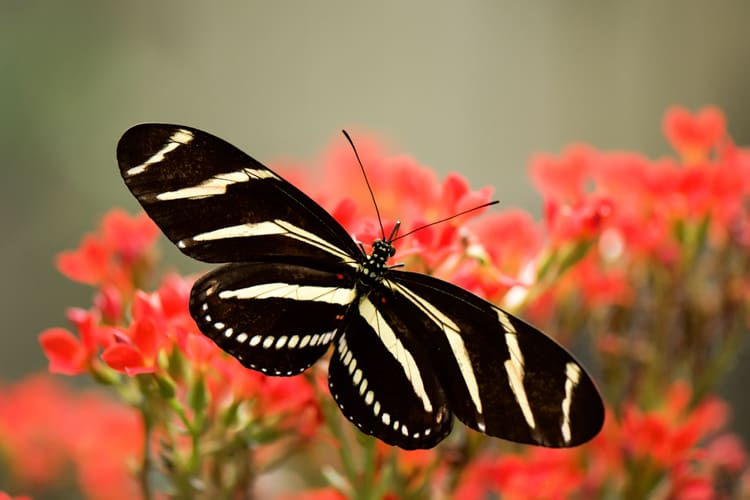kelebek: (107, 93, 621, 459)
